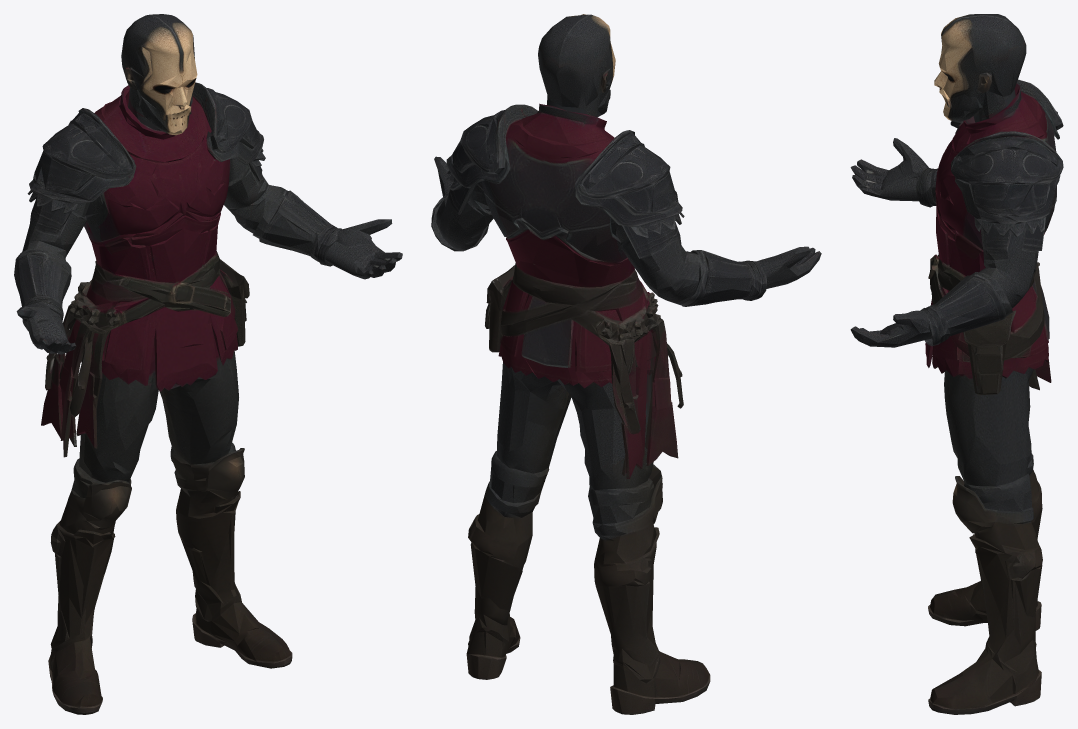
File: texture.glb
3 renders of one model, left to right at view 1: azimuth 30°, elevation 25°; view 2: azimuth 150°, elevation 25°; view 3: azimuth 270°, elevation 25°, orthographic.
Size of the model in its own units: 1.14 by 1.9 by 0.5689.
1 material, 1 textured.
